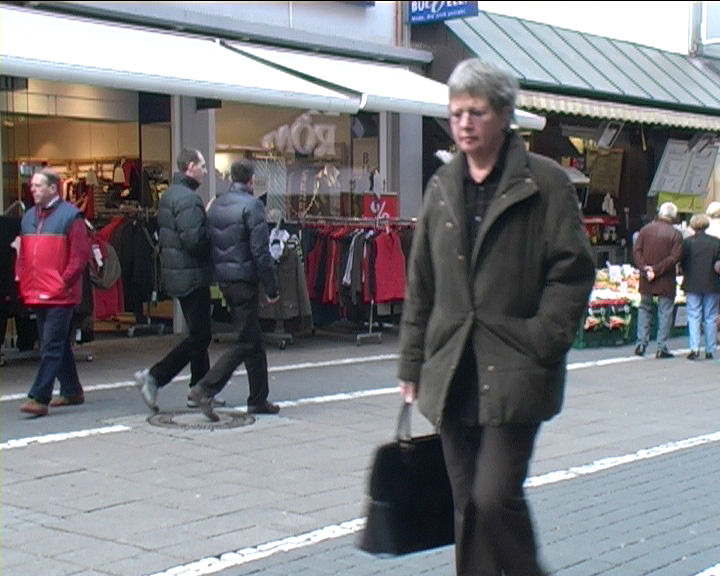undeflect: (433, 69, 569, 215), (10, 162, 97, 235), (169, 150, 224, 210)
